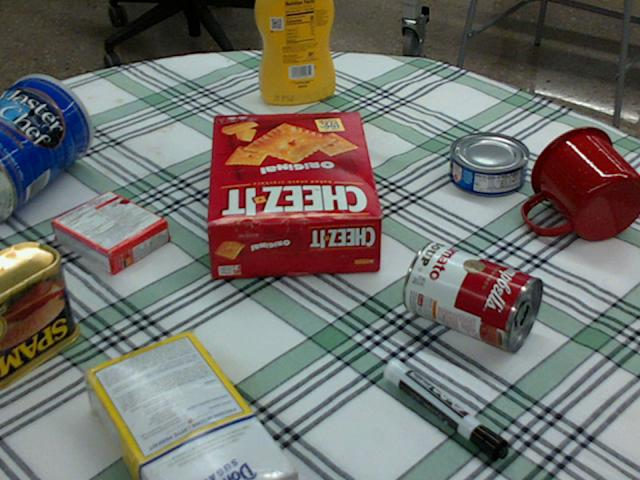cracker_box: (201, 111, 378, 275)
gelatin_box: (52, 189, 169, 275)
large_marker: (385, 359, 508, 463)
master_chef_can: (0, 74, 91, 223)
mug: (523, 126, 639, 241)
mustard_bottle: (255, 0, 334, 104)
potted_meat_can: (0, 239, 79, 387)
sugar_box: (78, 333, 294, 479)
tomato_soup_can: (402, 239, 542, 352)
tuna_fish_can: (449, 132, 530, 196)
